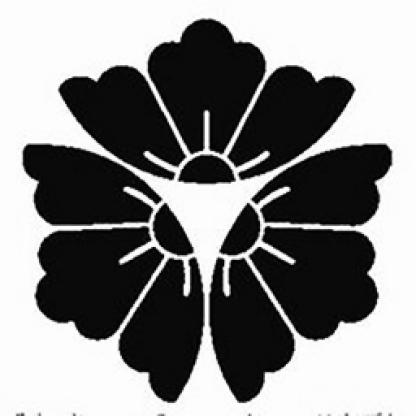kamon: (19, 16, 395, 405)
